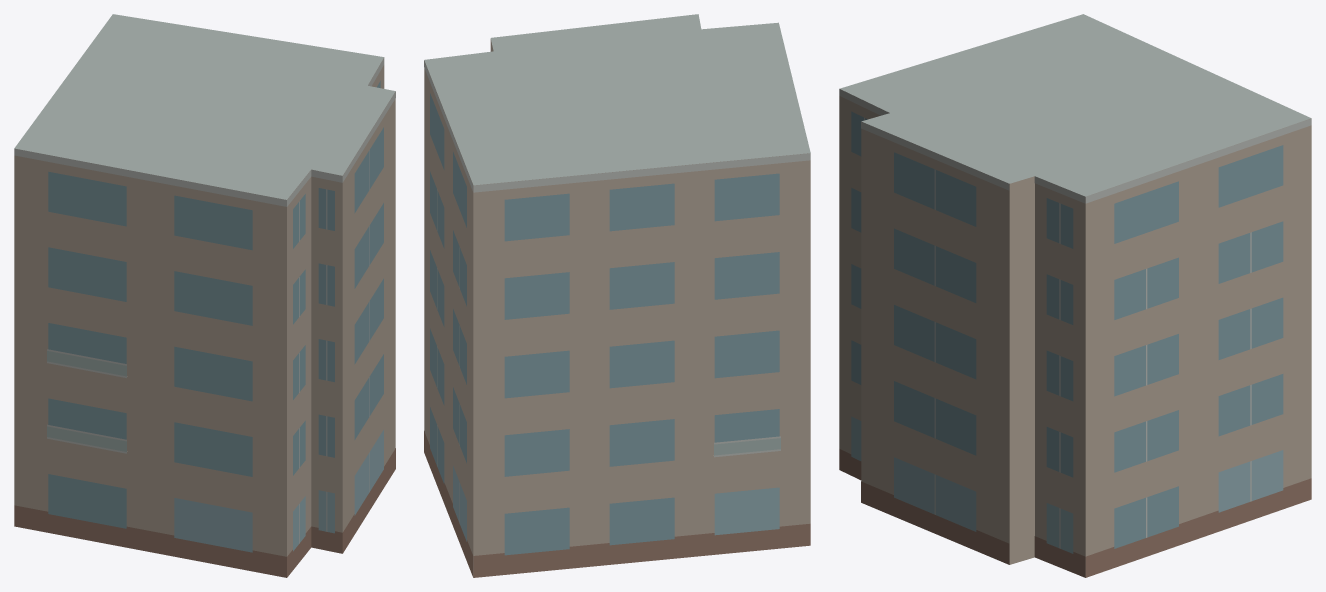
The model's file is survey-upis-32977384.glb.
The picture shows the model from 3 angles, left to right: view 1: azimuth 30°, elevation 25°; view 2: azimuth 150°, elevation 25°; view 3: azimuth 270°, elevation 25°; orthographic projection. The views are drawn at different scales.
Visible parts, largest first — view 1: survey-upis-32977384.tmp; view 2: survey-upis-32977384.tmp; view 3: survey-upis-32977384.tmp.
Boxes of the visible parts, bbox=[...] form: survey-upis-32977384.tmp: bbox=[14, 14, 395, 577]; survey-upis-32977384.tmp: bbox=[424, 14, 810, 577]; survey-upis-32977384.tmp: bbox=[839, 14, 1311, 577].
Size of the model in its own units: 13.58 by 13.2 by 14.83.
